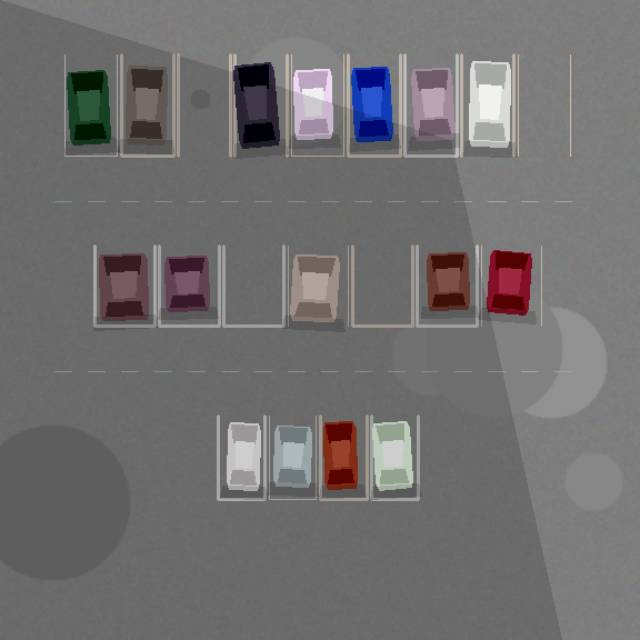space-empty: (178, 54, 230, 156), (518, 54, 570, 156), (223, 246, 283, 326), (352, 246, 412, 326)
space-occupied: (64, 54, 117, 156), (234, 54, 287, 156), (404, 54, 457, 156), (121, 54, 173, 156), (291, 54, 343, 156), (348, 54, 400, 156), (461, 54, 513, 156), (94, 246, 154, 326), (159, 246, 219, 326), (288, 246, 348, 326), (417, 246, 477, 326), (481, 246, 541, 326), (269, 416, 316, 499), (320, 416, 367, 499), (371, 416, 418, 499), (218, 416, 264, 499)
